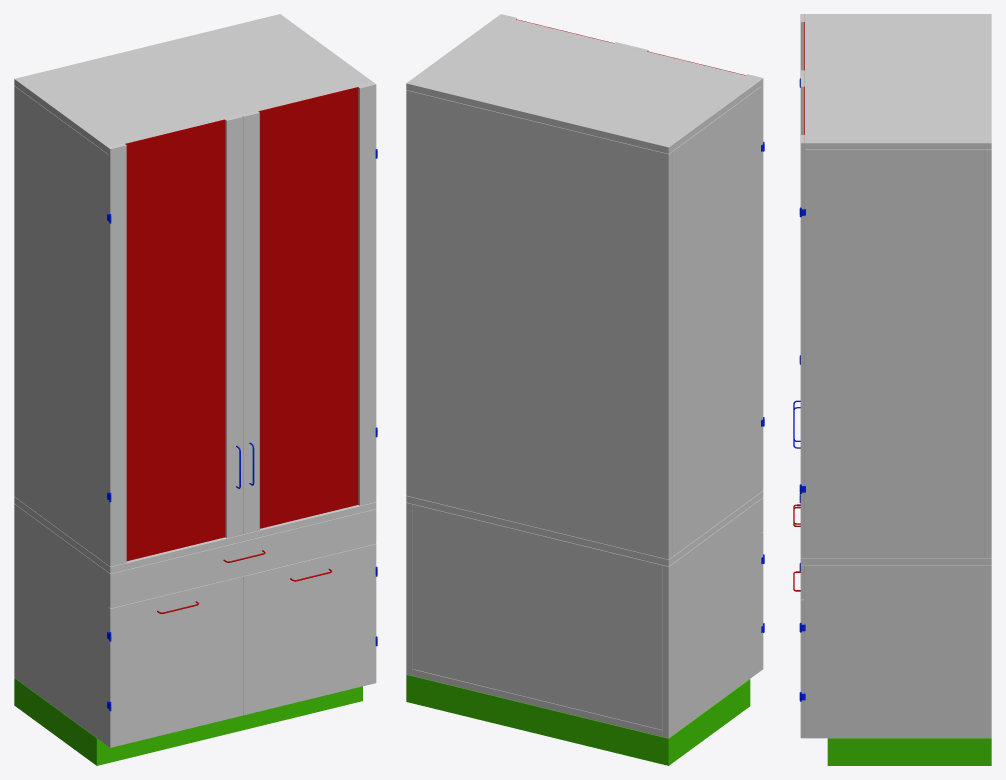
File: Cabinet01b.fbx
The picture shows the model from 3 angles, left to right: view 1: azimuth 30°, elevation 25°; view 2: azimuth 150°, elevation 25°; view 3: azimuth 270°, elevation 25°; orthographic projection.
Parts seen in each view (by area): view 1: Cabinet01b, CabinetDoor01, CabinetDoor02, Drawer02, Drawer03, Drawer01; view 2: Cabinet01b, CabinetDoor01; view 3: Cabinet01b, CabinetDoor02, Drawer03, CabinetDoor01.
Part boxes in pixels (x1,y1,x2,y2): Cabinet01b: [14, 14, 377, 765]; CabinetDoor01: [108, 115, 243, 566]; CabinetDoor02: [242, 83, 376, 534]; Drawer02: [108, 576, 243, 747]; Drawer03: [243, 544, 376, 715]; Drawer01: [108, 509, 376, 608]; Cabinet01b: [406, 15, 764, 765]; CabinetDoor01: [631, 46, 763, 491]; Cabinet01b: [799, 14, 991, 765]; CabinetDoor02: [793, 78, 804, 558]; Drawer03: [793, 571, 804, 738]; CabinetDoor01: [793, 14, 804, 441].
Size of the model in its own units: 101 by 65 by 225.
